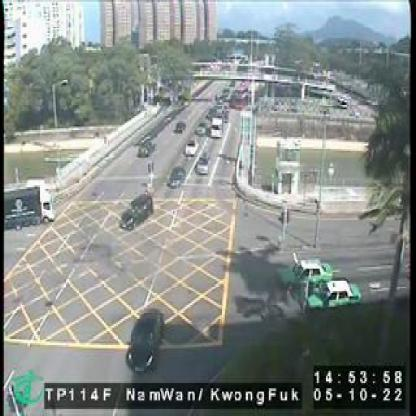Car: (123, 309, 160, 372), (304, 277, 362, 305), (277, 257, 331, 286), (118, 192, 152, 226), (165, 163, 185, 185), (195, 152, 209, 174), (136, 140, 154, 154), (185, 137, 196, 152), (174, 118, 184, 130), (196, 122, 206, 134)
Truck: (4, 184, 54, 227), (210, 109, 223, 139)
